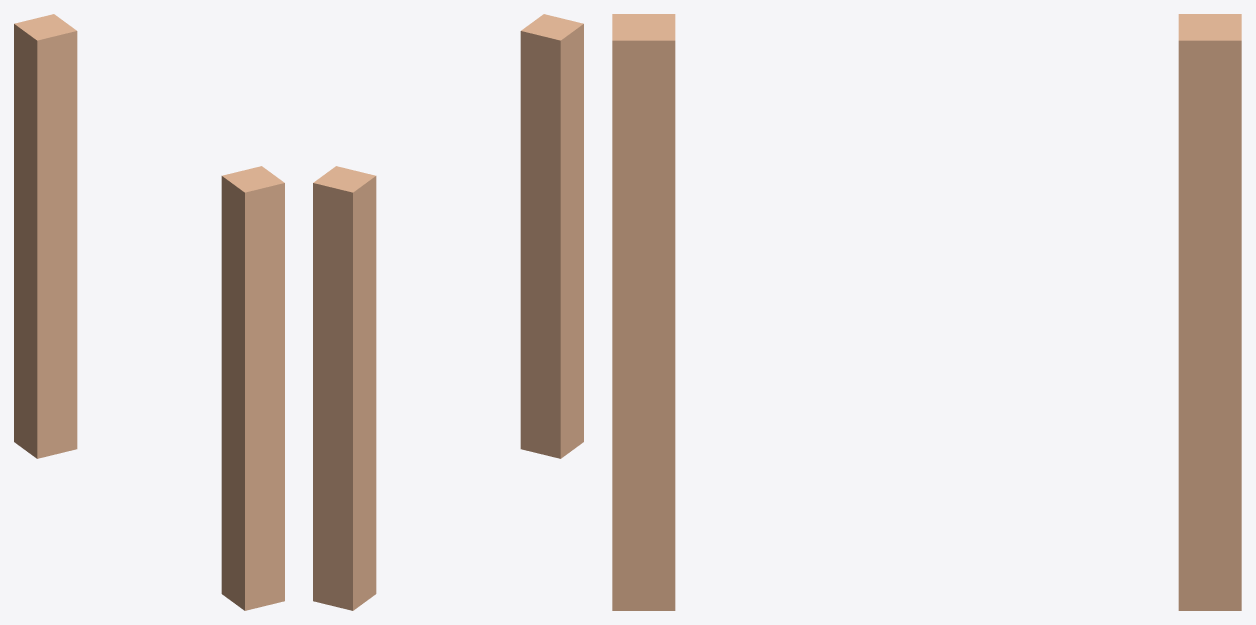
File: poles.glb
3 renders of one model, left to right at view 1: azimuth 30°, elevation 25°; view 2: azimuth 150°, elevation 25°; view 3: azimuth 270°, elevation 25°, orthographic. The views are drawn at different scales.
Visible parts, largest first — view 1: poles; view 2: poles; view 3: poles.
Part boxes in pixels (x1,y1,x2,y2): poles: (14, 14, 284, 610); poles: (313, 14, 583, 610); poles: (612, 14, 1241, 610).
Bounding box in the file's own units: 0.1 × 1 × 1.
